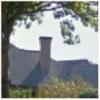chimneys: (36, 36, 52, 70)
